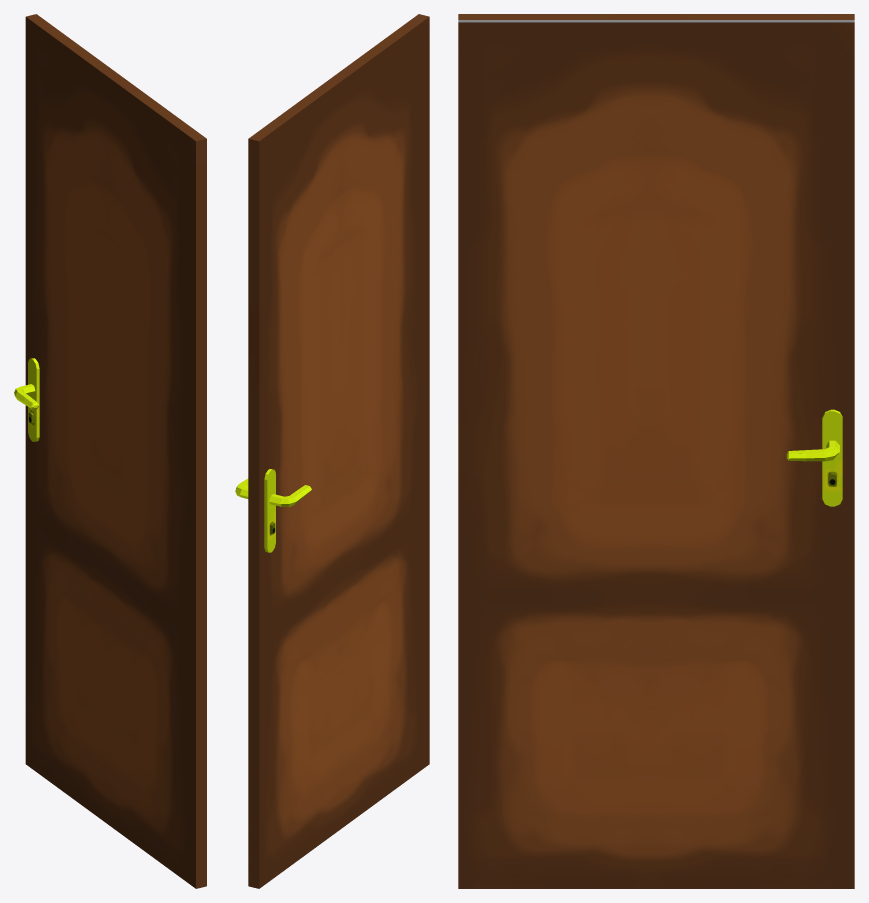
File: porta.fbx
3 views of the same model, side by side, from view 1: azimuth 30°, elevation 25°; view 2: azimuth 150°, elevation 25°; view 3: azimuth 270°, elevation 25° (orthographic). The views are drawn at different scales.
Visible parts, largest first — view 1: porta, macaneta; view 2: porta, macaneta; view 3: porta, macaneta2.
Part boxes in pixels (x1,y1,x2,y2): porta: (25,14,206,888); macaneta: (14,358,39,441); porta: (248,14,429,888); macaneta: (264,469,311,552); porta: (458,14,854,888); macaneta2: (786,409,842,506).
Bounding box in the file's own units: 40.3 × 481 × 199.
Materials: 2 (2 with a texture image).
